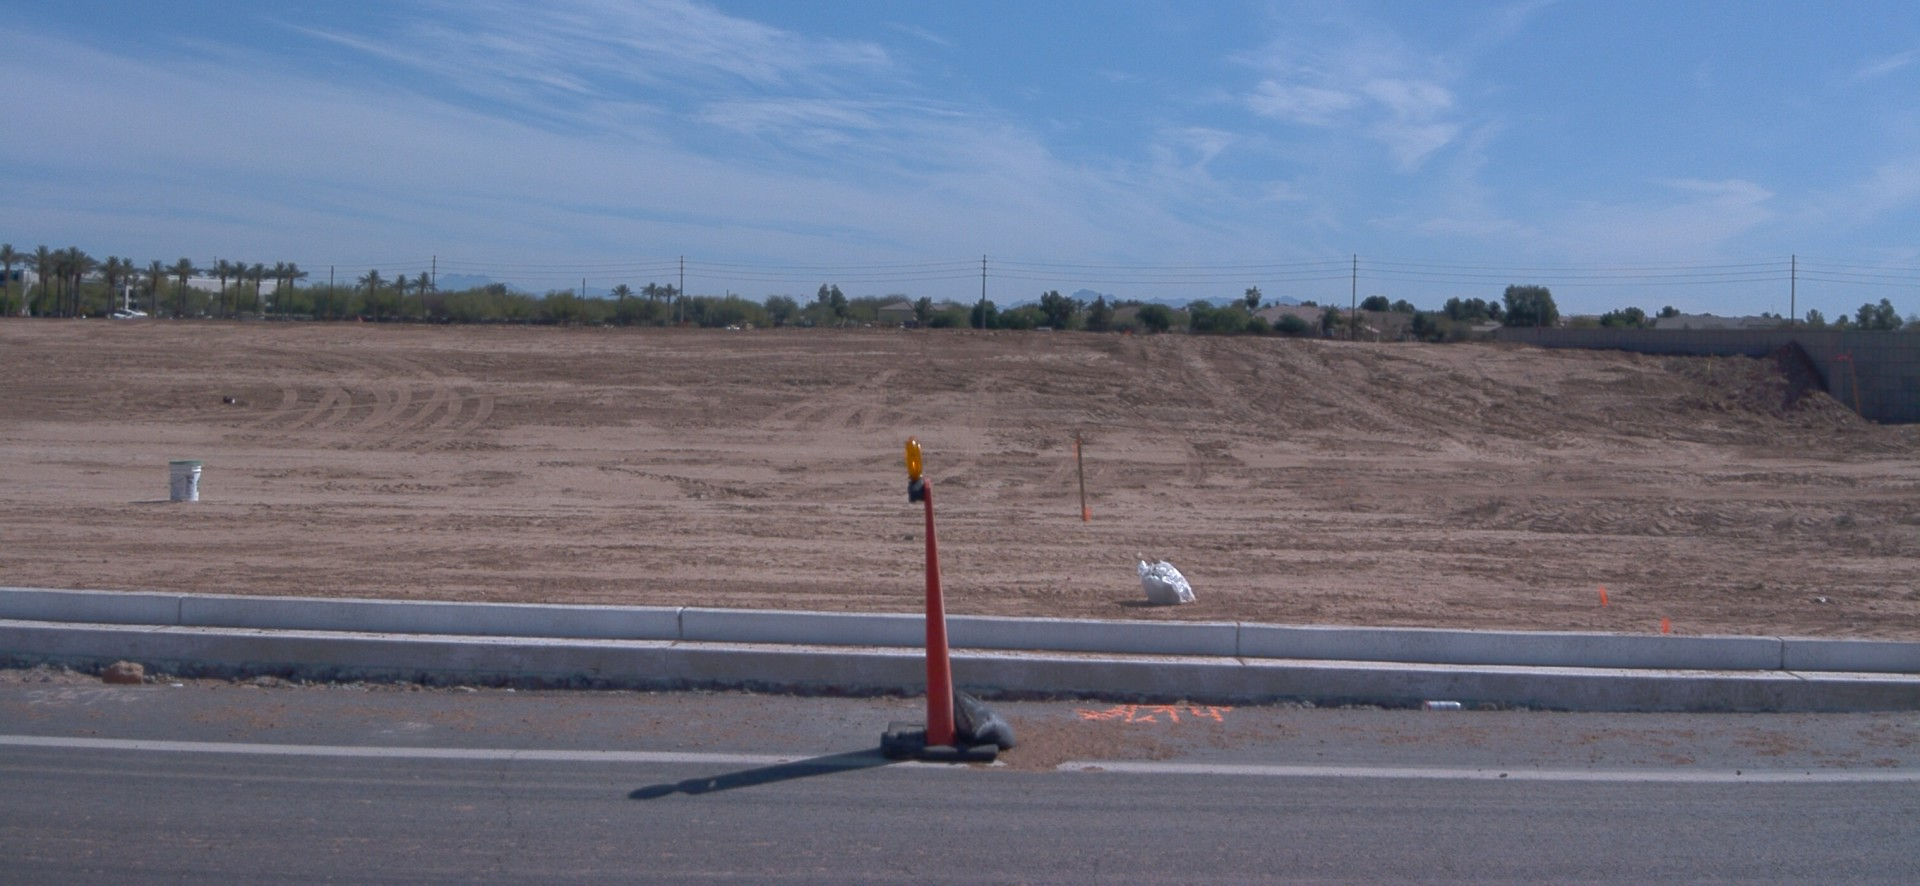TYPE_VEHICLE: (111, 306, 149, 321), (111, 306, 149, 321), (111, 306, 149, 321), (111, 306, 149, 321)
